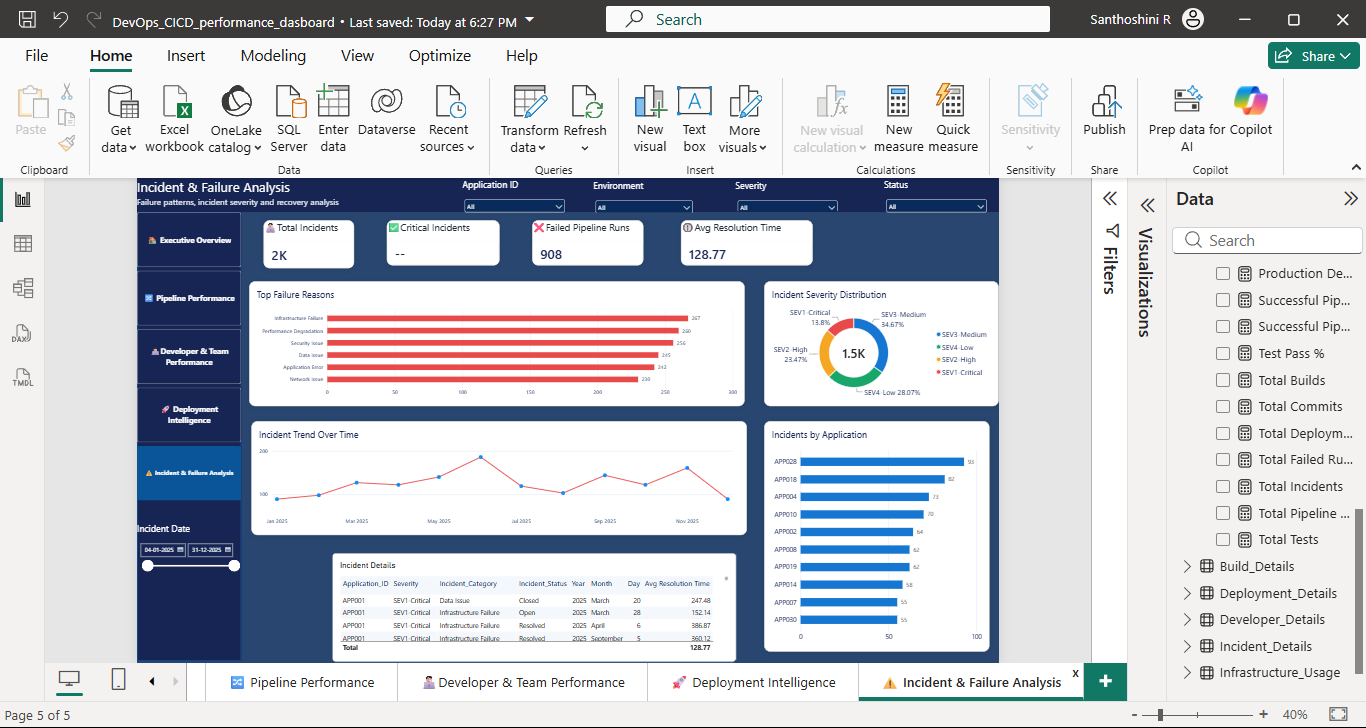

The page's visual inventory and layout, read from the dashboard file:
{"tool":"powerbi","page":{"name":"⚠️ Incident & Failure Analysis","canvas":[1920,1080],"ordinal":4},"visuals":[{"type":"shape","title":"Incident & Failure Analysis","box":[0,0,1920.3,75.4],"z":0},{"type":"shape","box":[0,76.4,232,999],"z":1000},{"type":"slicer","title":"Incident Date","fields":{"Values":["Incident_Details.Incident_Date"]},"box":[0,767.5,232.4,131.5],"z":2000},{"type":"slicer","title":"Environment","fields":{"Values":["Deployment_Details.Environment"]},"box":[1015.1,3.1,226.6,74.5],"z":3000},{"type":"slicer","title":"Status","fields":{"Values":["Incident_Details.Incident_Status"]},"box":[1663.4,0,233.8,77.9],"z":4000},{"type":"slicer","title":"Severity","fields":{"Values":["Incident_Details.Severity"]},"box":[1333.1,3.1,233.1,71.2],"z":5000},{"type":"cardVisual","title":"🧑🏻💻Total Incidents","fields":{"Data":["Application_Details.Total Incidents"]},"box":[281.3,94.8,202,107],"z":6000},{"type":"pageNavigator","box":[0,76.4,232.4,645.2],"z":7000},{"type":"cardVisual","title":"✅Critical Incidents","fields":{"Data":["Application_Details.Critical Incidents"]},"box":[556.5,94.8,251.1,101.1],"z":8000},{"type":"cardVisual","title":"❌Failed Pipeline Runs","fields":{"Data":["Application_Details.Failed Pipeline Runs"]},"box":[880.6,94.8,247.7,100.9],"z":9000},{"type":"cardVisual","title":"🕧Avg Resolution Time","fields":{"Data":["Application_Details.Avg Resolution Time"]},"box":[1210.8,94.8,293.5,100.9],"z":10000},{"type":"clusteredBarChart","title":"Top Failure Reasons","fields":{"Category":["Incident_Details.Incident_Category"],"Y":["CountNonNull(Incident_Details.Incident_ID)"]},"box":[250.7,229.3,1103.8,278.2],"z":11000},{"type":"donutChart","title":"Incident Severity Distribution","fields":{"Category":["Incident_Details.Severity"],"Y":["CountNonNull(Incident_Details.Incident_ID)"]},"box":[1397.1,229.3,522.9,278.2],"z":12000},{"type":"clusteredBarChart","title":"Incidents by Application","fields":{"Category":["Incident_Details.Application_ID"],"Y":["CountNonNull(Incident_Details.Incident_ID)"]},"box":[1397.3,541.2,501.5,513.7],"z":13000},{"type":"lineChart","title":"Incident Trend Over Time","fields":{"Category":["Incident_Details.Incident_Date.Variation.Date Hierarchy.Year","Incident_Details.Incident_Date.Variation.Date Hierarchy.Month"],"Y":["CountNonNull(Incident_Details.Incident_ID)"]},"box":[253.8,541.2,1103.8,253.8],"z":14000},{"type":"tableEx","title":"Incident Details","fields":{"Values":["Incident_Details.Application_ID","Incident_Details.Severity","Incident_Details.Incident_Category","Incident_Details.Incident_Status","Incident_Details.Incident_Date.Variation.Date Hierarchy.Year","Incident_Details.Incident_Date.Variation.Date Hierarchy.Month","Incident_Details.Incident_Date.Variation.Date Hierarchy.Day","Application_Details.Avg Resolution Time"]},"box":[434.2,834.7,898.9,241.6],"z":15000},{"type":"slicer","title":"Application ID","fields":{"Values":["Incident_Details.Application_ID"]},"box":[724.7,0,233.8,77.9],"z":16000}]}

Visuals, with their boxes on the page's 1920x1080 design canvas (x1, y1, x2, y2). These are canvas units, not pixel positions in the 1366x728 screenshot, which may show the page scaled, cropped or inside an application window:
"Incident & Failure Analysis" shape: (left=0, top=0, right=1920, bottom=75)
shape: (left=0, top=76, right=232, bottom=1075)
"Incident Date" slicer: (left=0, top=768, right=232, bottom=899)
"Environment" slicer: (left=1015, top=3, right=1242, bottom=78)
"Status" slicer: (left=1663, top=0, right=1897, bottom=78)
"Severity" slicer: (left=1333, top=3, right=1566, bottom=74)
"🧑🏻💻Total Incidents" cardVisual: (left=281, top=95, right=483, bottom=202)
pageNavigator: (left=0, top=76, right=232, bottom=722)
"✅Critical Incidents" cardVisual: (left=556, top=95, right=808, bottom=196)
"❌Failed Pipeline Runs" cardVisual: (left=881, top=95, right=1128, bottom=196)
"🕧Avg Resolution Time" cardVisual: (left=1211, top=95, right=1504, bottom=196)
"Top Failure Reasons" clusteredBarChart: (left=251, top=229, right=1354, bottom=508)
"Incident Severity Distribution" donutChart: (left=1397, top=229, right=1920, bottom=508)
"Incidents by Application" clusteredBarChart: (left=1397, top=541, right=1899, bottom=1055)
"Incident Trend Over Time" lineChart: (left=254, top=541, right=1358, bottom=795)
"Incident Details" tableEx: (left=434, top=835, right=1333, bottom=1076)
"Application ID" slicer: (left=725, top=0, right=958, bottom=78)
